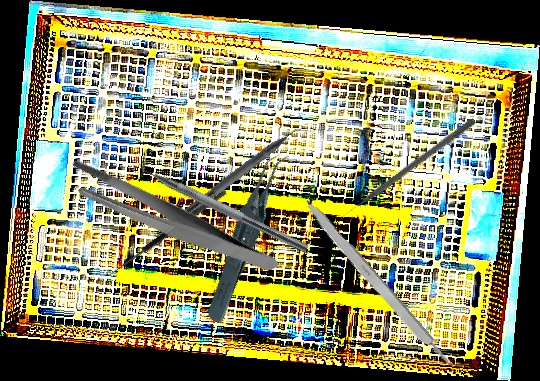Chopper: (158, 115, 317, 246), (124, 148, 315, 254)
Dressing Forceps: (60, 119, 281, 321)
Hook Surgical: (107, 188, 232, 284)
Pusher: (337, 116, 477, 221)
Scalpel Handle: (299, 197, 453, 370)
Tissue Forceps: (174, 147, 324, 326)
